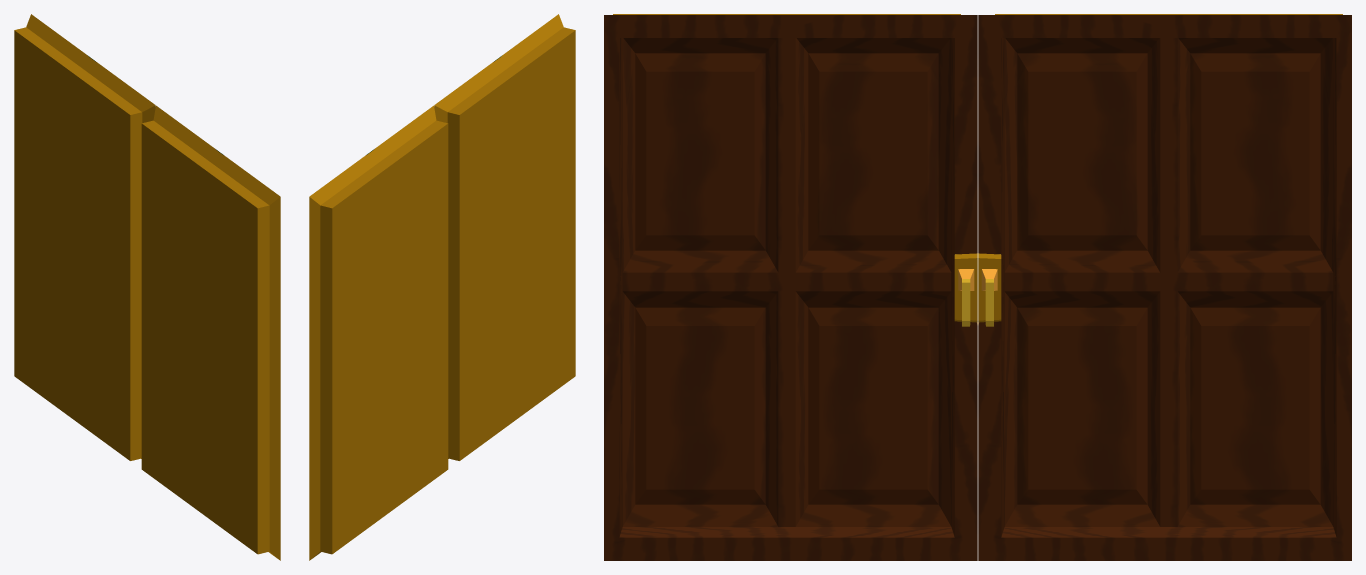
The model's file is doorExitEnter.fbx.
3 renders of one model, left to right at view 1: azimuth 30°, elevation 25°; view 2: azimuth 150°, elevation 25°; view 3: azimuth 270°, elevation 25°, orthographic. The views are drawn at different scales.
Parts seen in each view (by area): view 1: Cube; view 2: Cube; view 3: Cube.
Part boxes in pixels (x1=…): Cube: x1=14, y1=14, x2=280, y2=560; Cube: x1=309, y1=14, x2=575, y2=560; Cube: x1=604, y1=14, x2=1351, y2=560.
Size of the model in its own units: 60.09 by 629 by 781.
1 material, 1 textured.
